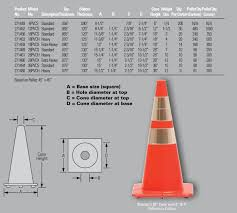cones: (133, 79, 196, 198)
